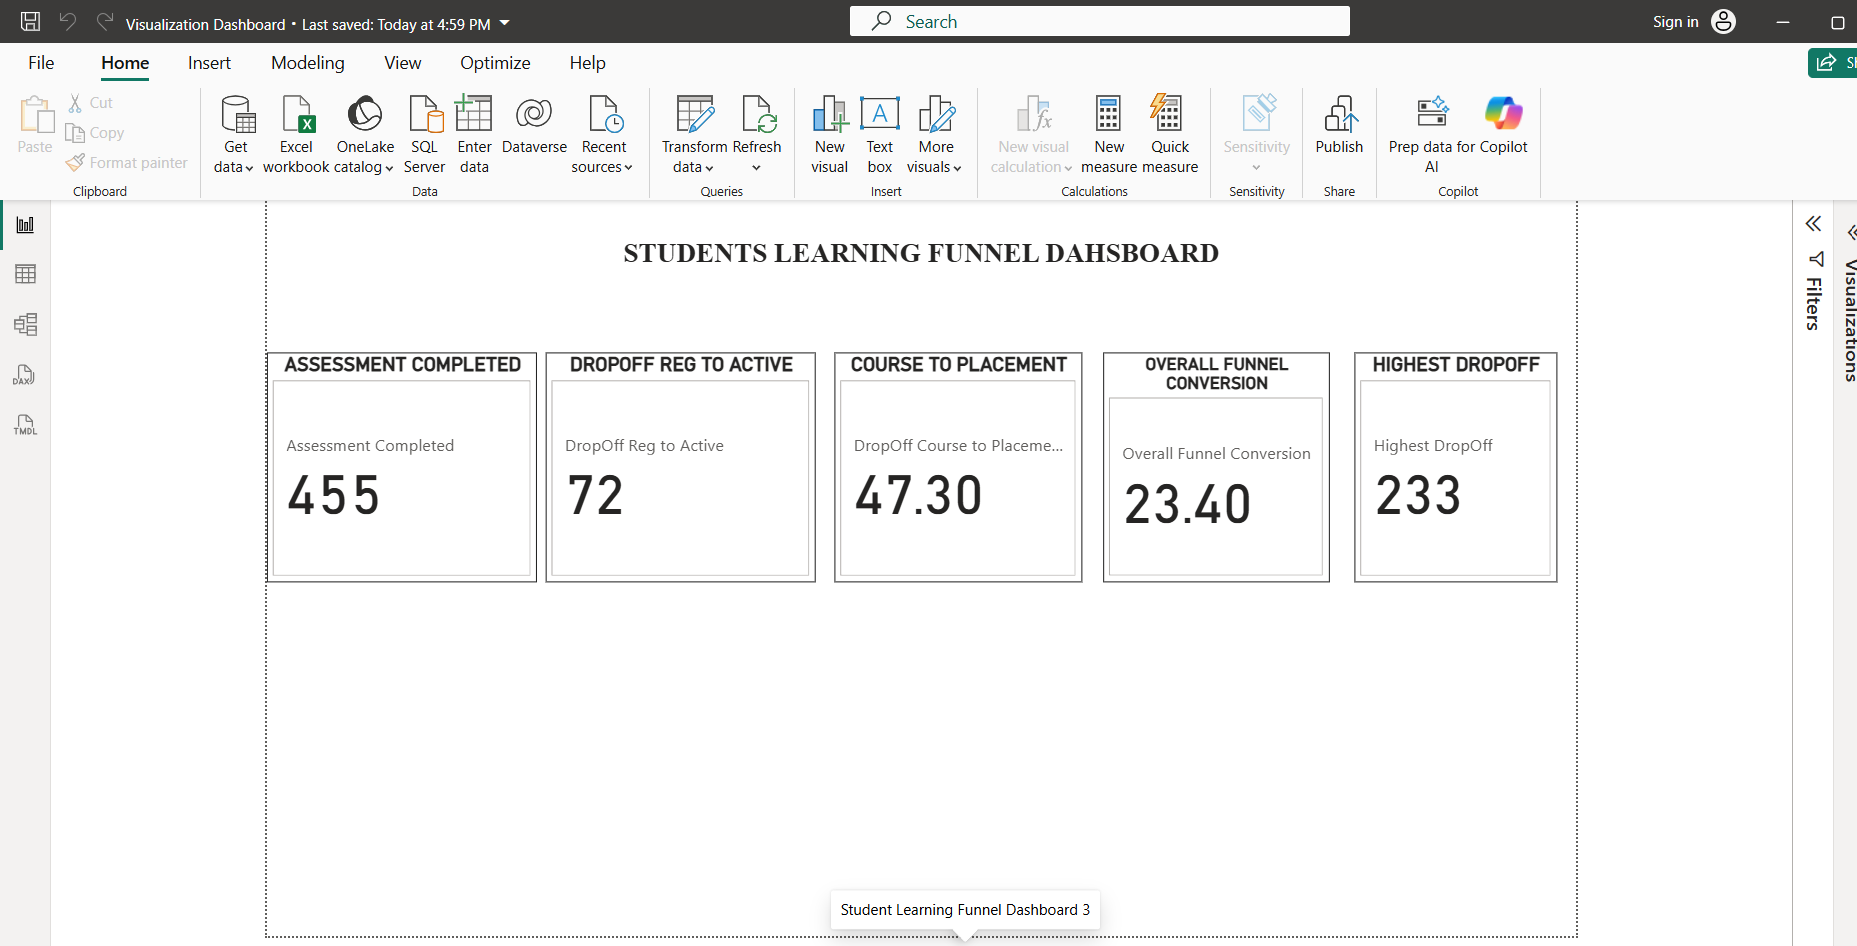

This screenshot's page, from the dashboard's own definition file:
{"tool":"powerbi","page":{"name":"Student Learning Funnel Dashboard 3","canvas":[1280,720],"ordinal":2},"visuals":[{"type":"cardVisual","title":"COURSE TO PLACEMENT","fields":{"Data":["Students_data.DropOff Course to Placement"]},"box":[555.2,149.2,242.1,225],"z":0},{"type":"cardVisual","title":"OVERALL FUNNEL CONVERSION","fields":{"Data":["Students_data.Overall Funnel Conversion"]},"box":[818.1,149.2,221.3,225],"z":1000},{"type":"cardVisual","title":"ASSESSMENT COMPLETED","fields":{"Data":["Student dataset1.Assessment Completed"]},"box":[0,149.2,264.1,225],"z":2000},{"type":"textbox","box":[0,31.8,1280.3,53.8],"z":3000},{"type":"cardVisual","title":"HIGHEST DROPOFF","fields":{"Data":["Student dataset1.Highest DropOff"]},"box":[1063.9,149.2,198.1,225],"z":4000},{"type":"cardVisual","title":"DROPOFF REG TO ACTIVE","fields":{"Data":["Students_data.DropOff Reg to Active"]},"box":[272.7,149.2,264.1,225],"z":5000}]}

Visuals, with their boxes on the page's 1280x720 design canvas (x1, y1, x2, y2). These are canvas units, not pixel positions in the 1857x946 screenshot, which may show the page scaled, cropped or inside an application window:
"COURSE TO PLACEMENT" cardVisual: {"x1": 555, "y1": 149, "x2": 797, "y2": 374}
"OVERALL FUNNEL CONVERSION" cardVisual: {"x1": 818, "y1": 149, "x2": 1039, "y2": 374}
"ASSESSMENT COMPLETED" cardVisual: {"x1": 0, "y1": 149, "x2": 264, "y2": 374}
textbox: {"x1": 0, "y1": 32, "x2": 1280, "y2": 86}
"HIGHEST DROPOFF" cardVisual: {"x1": 1064, "y1": 149, "x2": 1262, "y2": 374}
"DROPOFF REG TO ACTIVE" cardVisual: {"x1": 273, "y1": 149, "x2": 537, "y2": 374}
